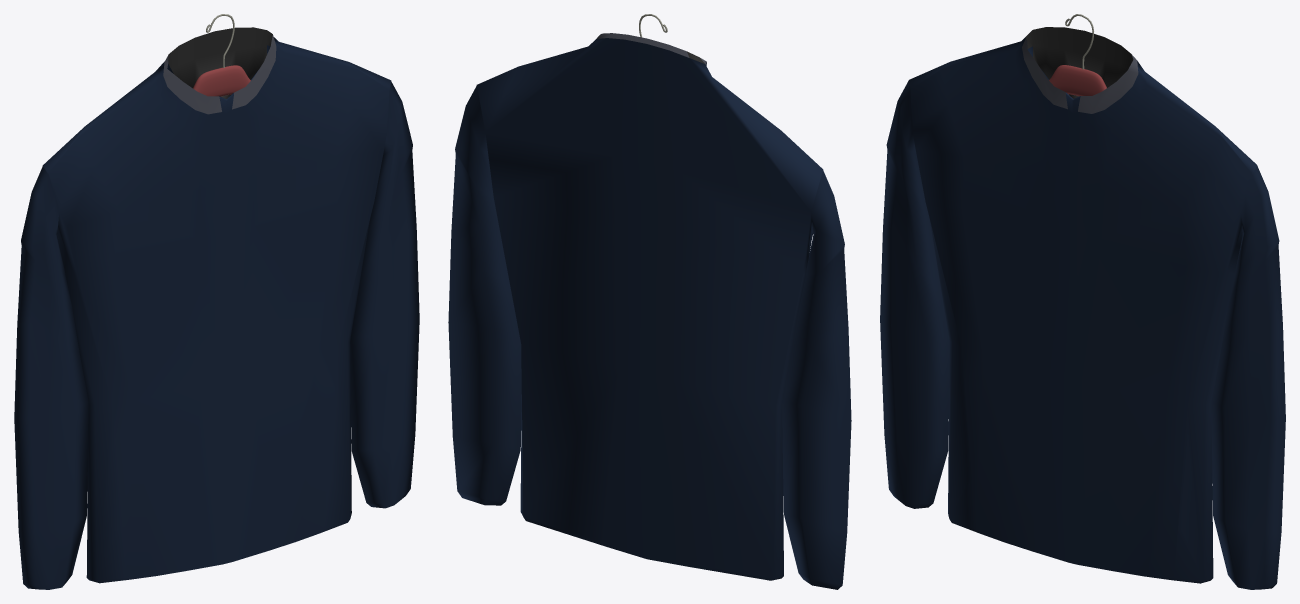
File: Sueter_Azul.fbx
3 views of the same model, side by side, from view 1: azimuth 30°, elevation 25°; view 2: azimuth 150°, elevation 25°; view 3: azimuth 330°, elevation 25° (orthographic).
Parts seen in each view (by area): view 1: Sueter, Gancho; view 2: Sueter; view 3: Sueter, Gancho.
Boxes of the visible parts, x1,y1,x2,y2 form: Sueter: [14, 27, 419, 589]; Gancho: [193, 14, 250, 96]; Sueter: [448, 33, 851, 589]; Sueter: [880, 27, 1285, 589]; Gancho: [1049, 14, 1106, 96].
Bounding box in the file's own units: 1124 × 1441 × 65.19.
